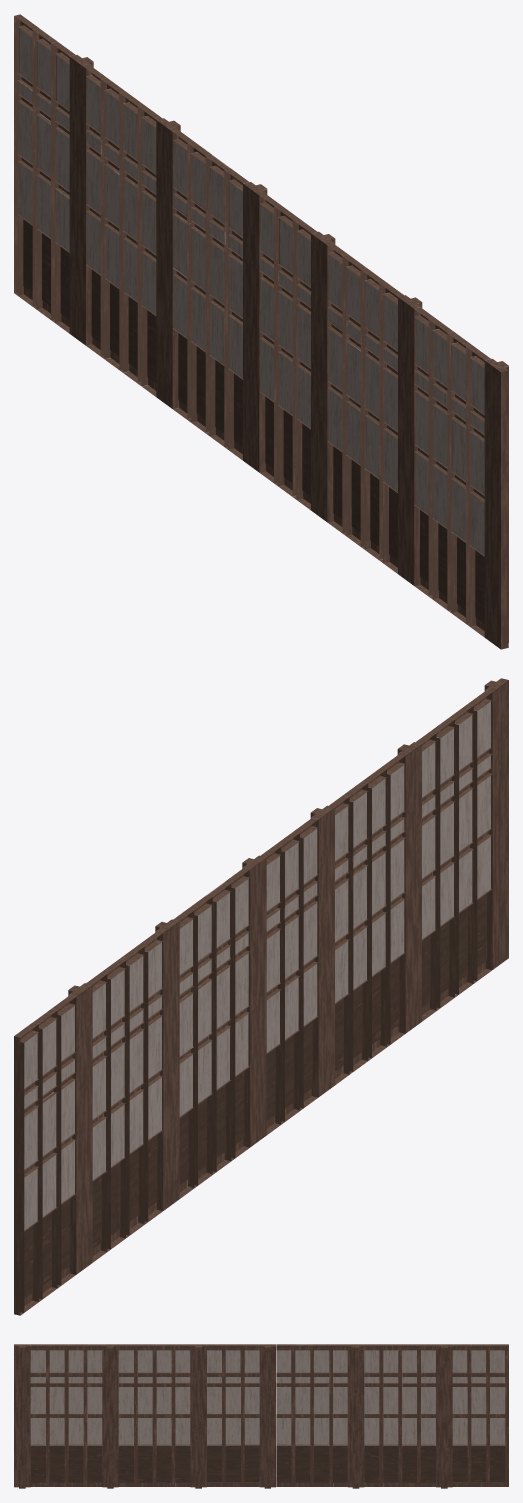
The model's file is left_wall.glb.
3 renders of one model, top to bottom at view 1: azimuth 30°, elevation 25°; view 2: azimuth 150°, elevation 25°; view 3: azimuth 270°, elevation 25°, orthographic. The views are drawn at different scales.
Parts seen in each view (by area): view 1: LeftWall; view 2: LeftWall; view 3: LeftWall.
Part boxes in pixels (x1,y1,x2,y2): LeftWall: (14,14,508,649); LeftWall: (14,678,508,1315); LeftWall: (14,1344,508,1488).
Size of the model in its own units: 0.1674 by 3.45 by 10.98.
4 materials, 4 textured.
